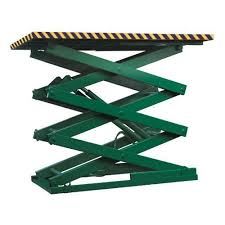Scissor Lift: (9, 30, 215, 196)
